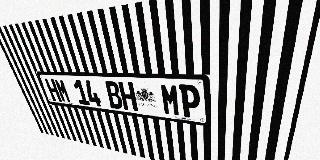1: (72, 79, 90, 105)
4: (83, 80, 102, 107)
B: (104, 81, 124, 109)
H: (118, 82, 138, 111), (44, 78, 62, 102)
M: (160, 83, 181, 116), (54, 79, 72, 103)
P: (179, 84, 201, 119)
